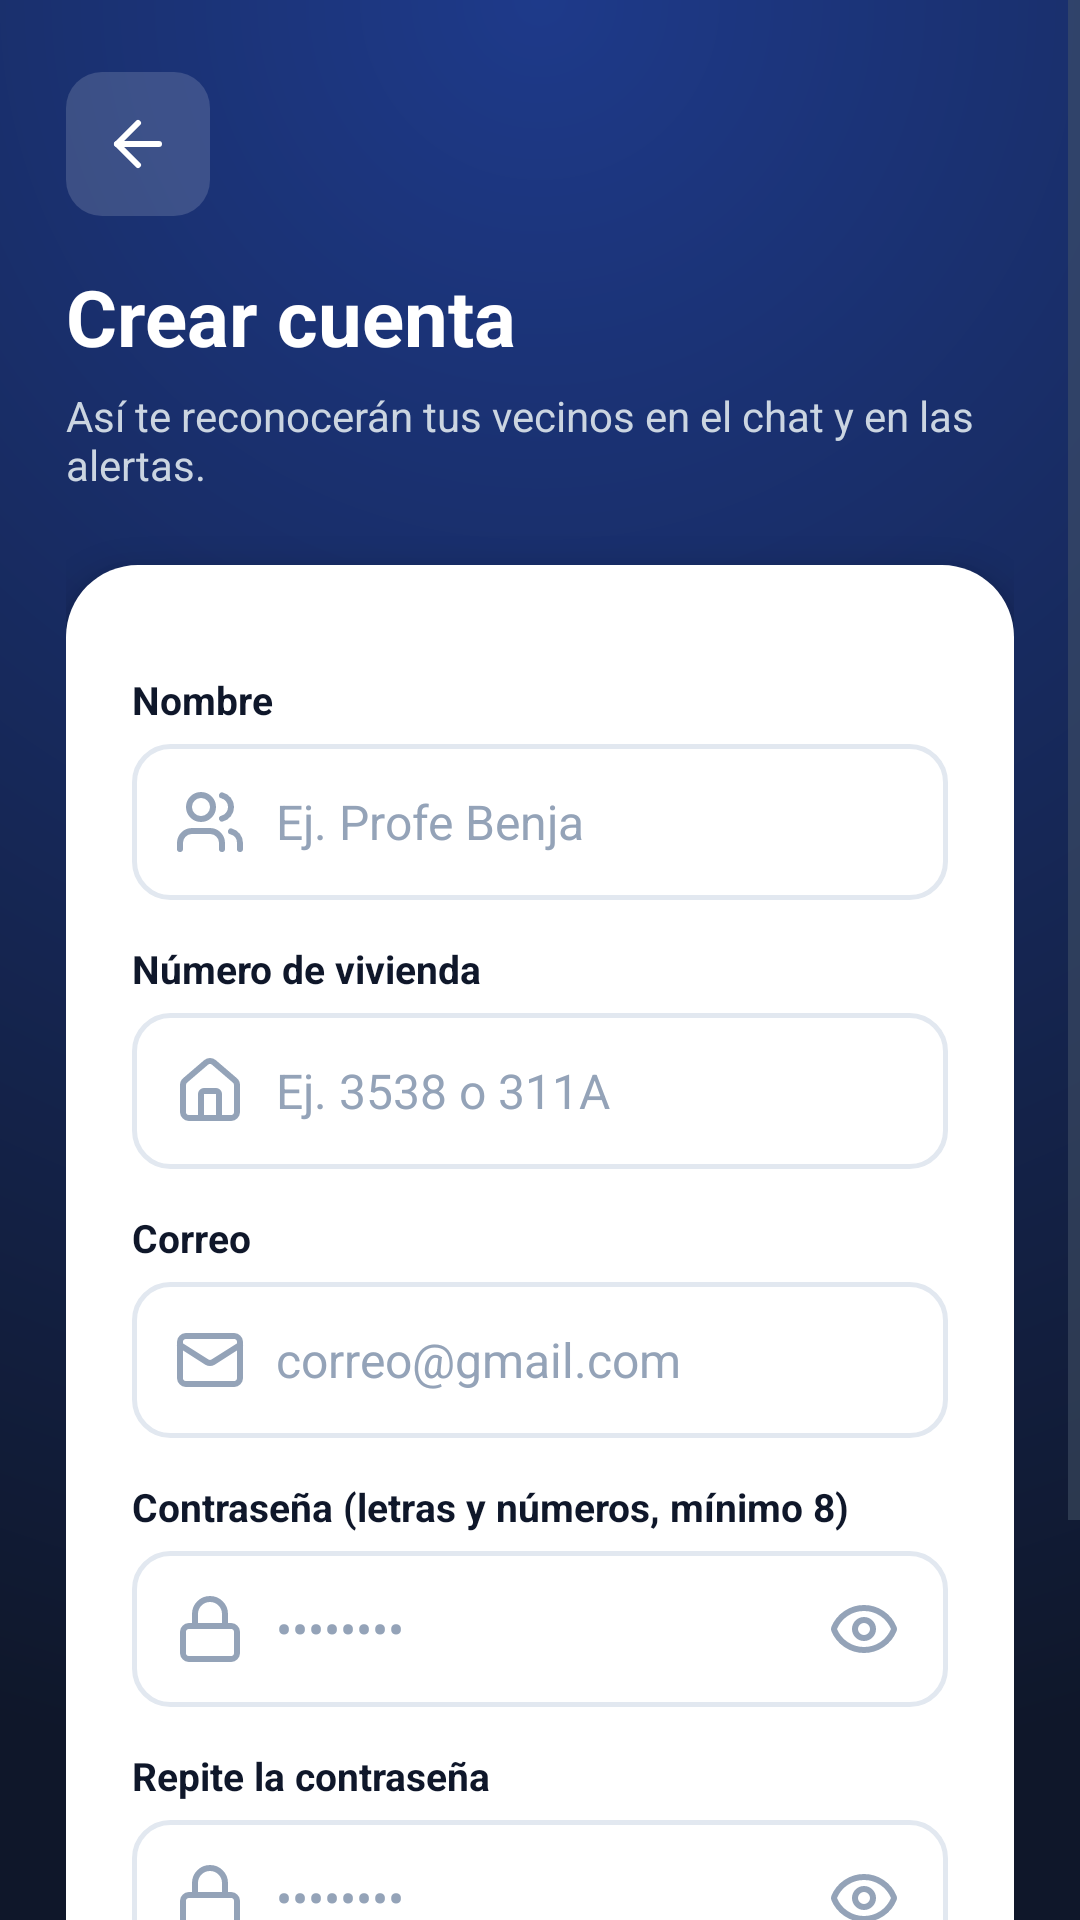

Named icons in this screenshot (1080px×1920px) and their centers, (x=x, y=y):
Volver al inicio de sesión: (x=138, y=144)
